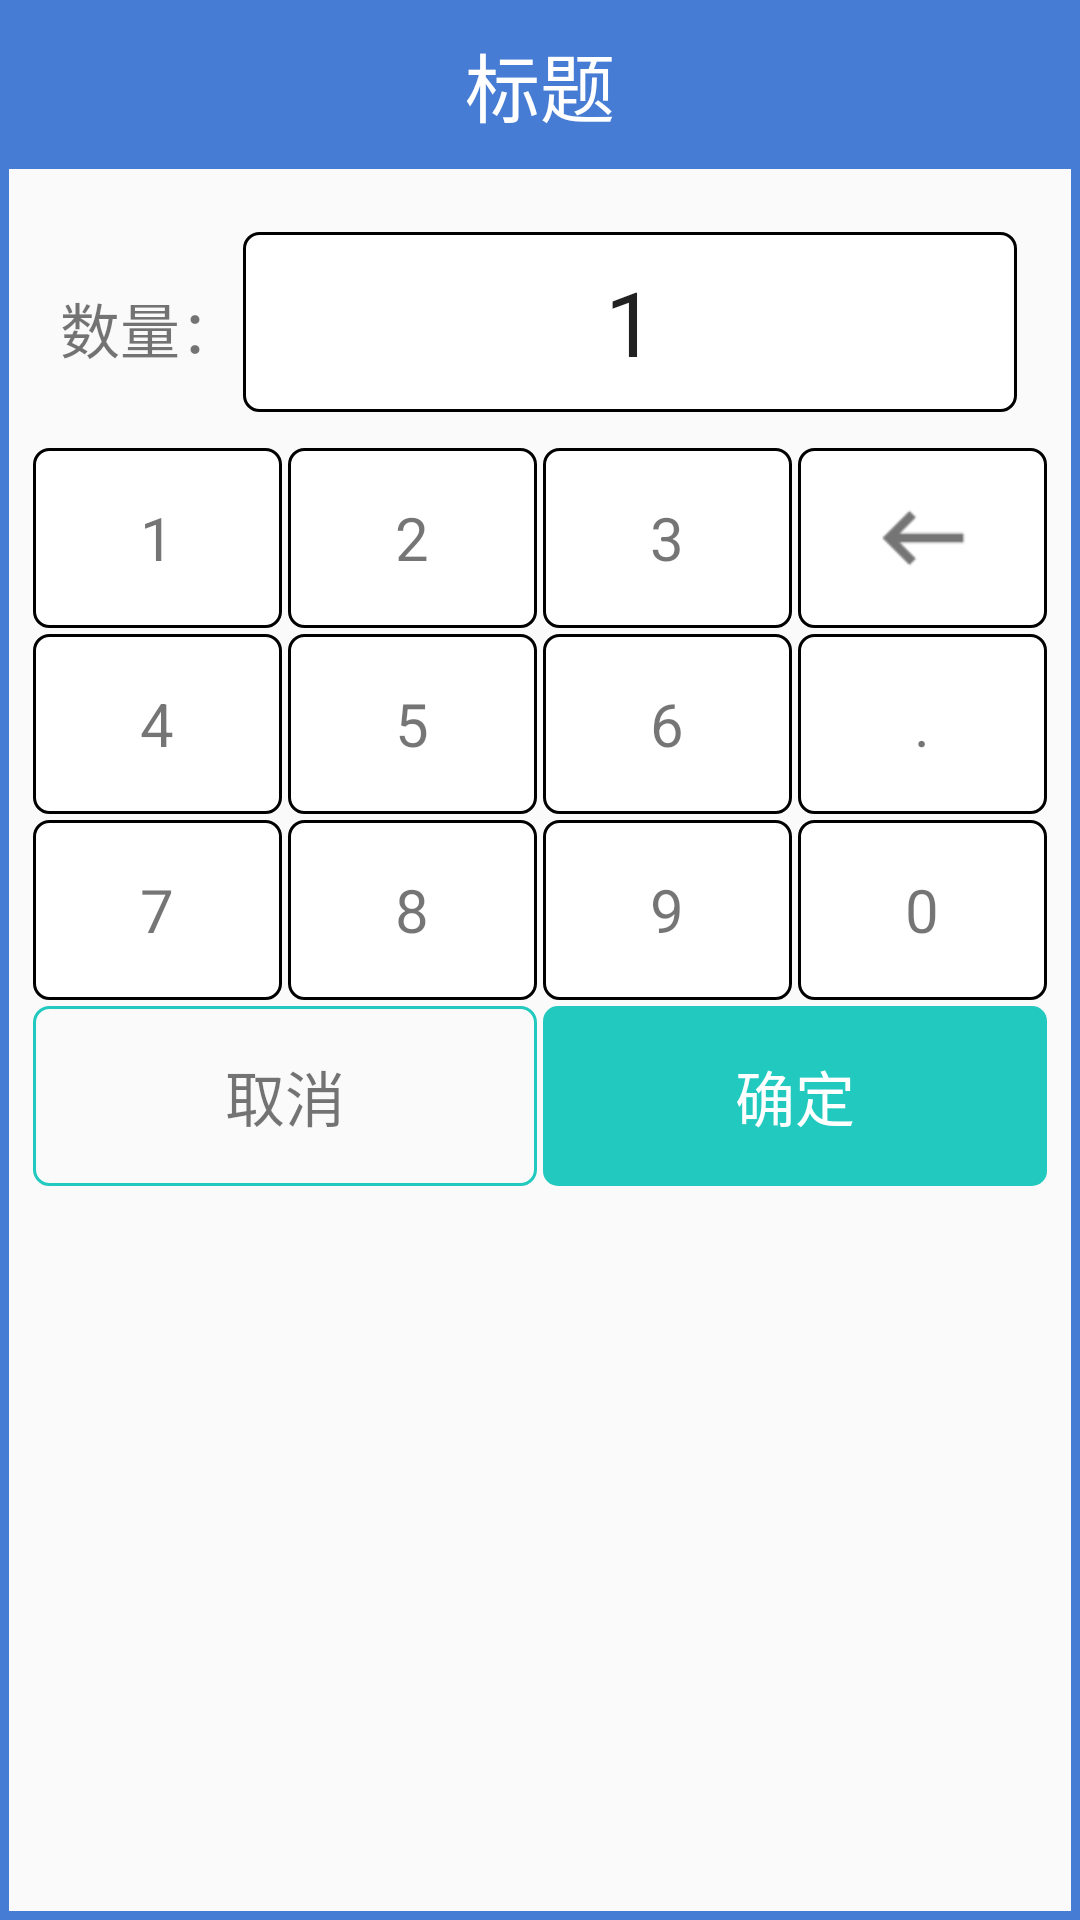

Icons on this 1080 x 1920 Android screen, each with its box as {"left": x1, "top": y1, "right": x2, "bottom": y2}:
keyboard backspace: {"left": 798, "top": 448, "right": 1047, "bottom": 628}
